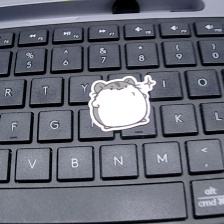mouse: (88, 72, 160, 134)
